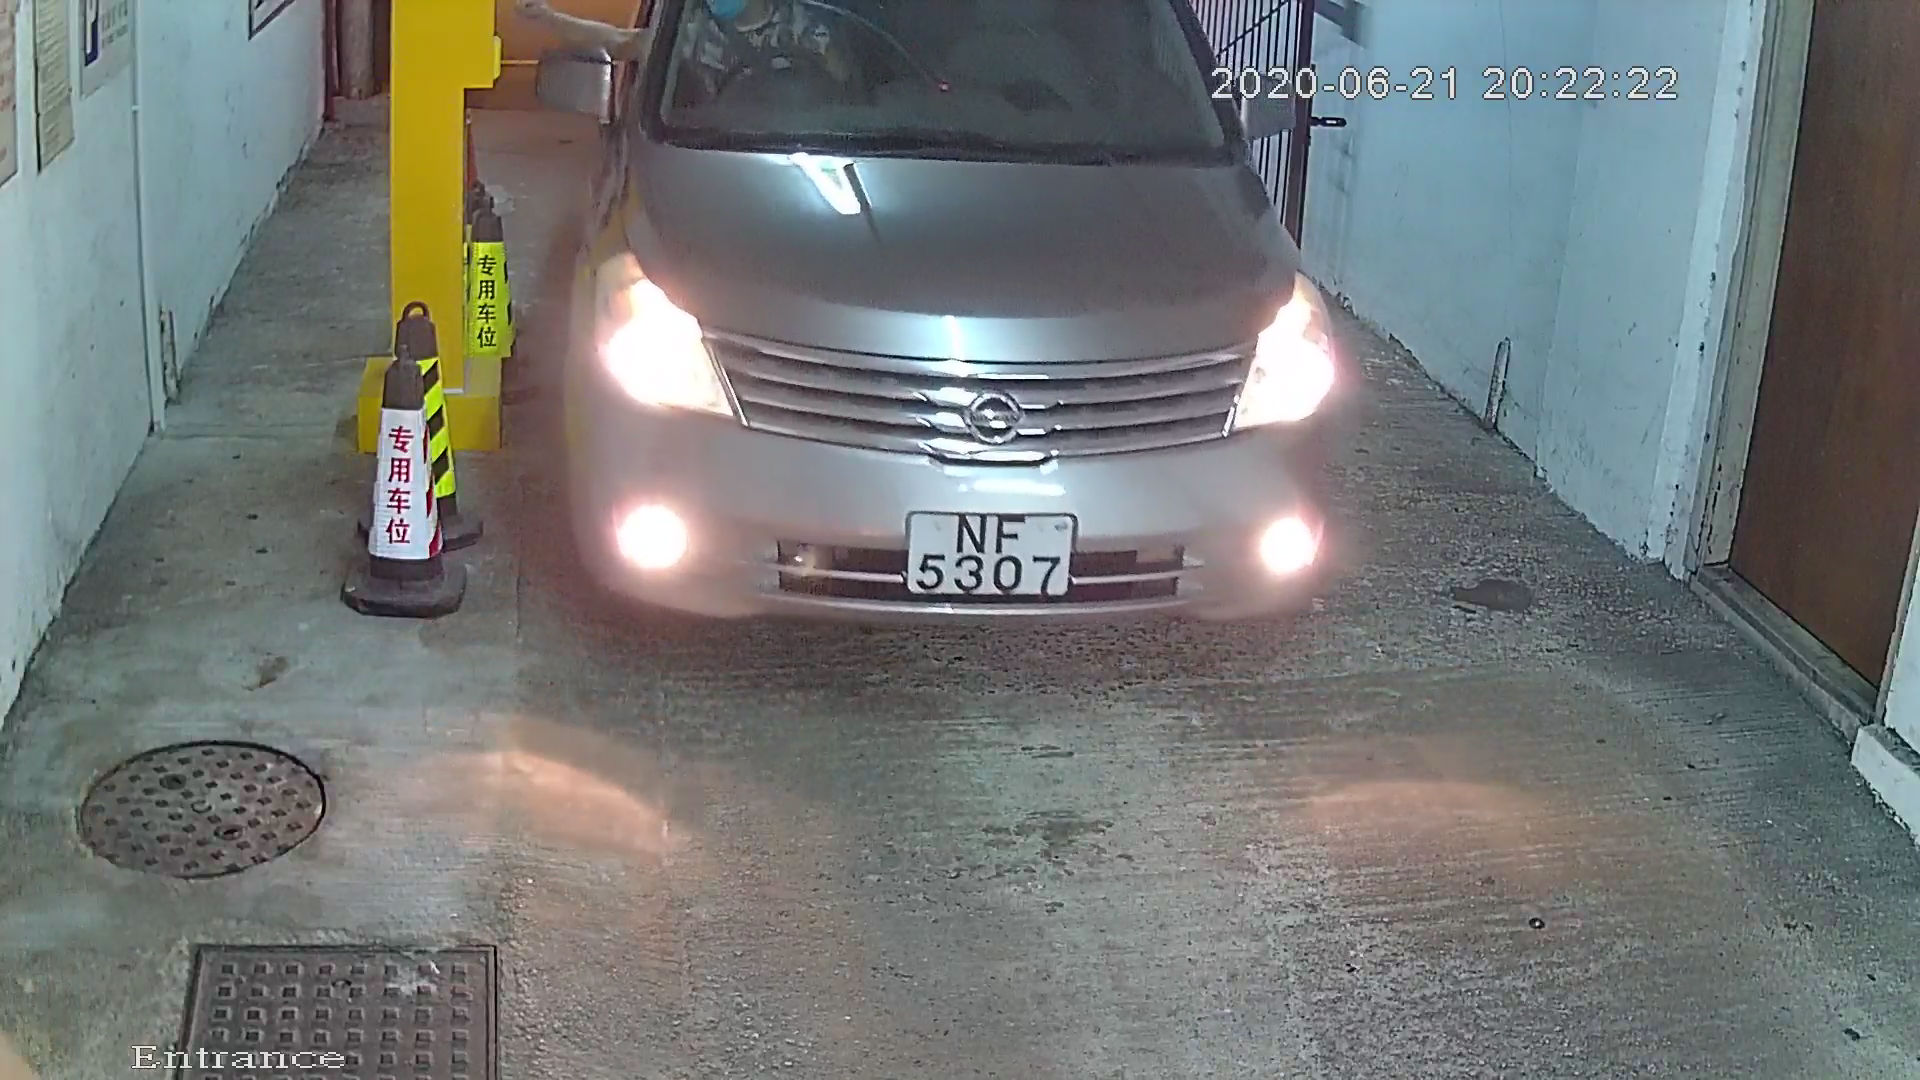privatecar: (534, 3, 1361, 709)
